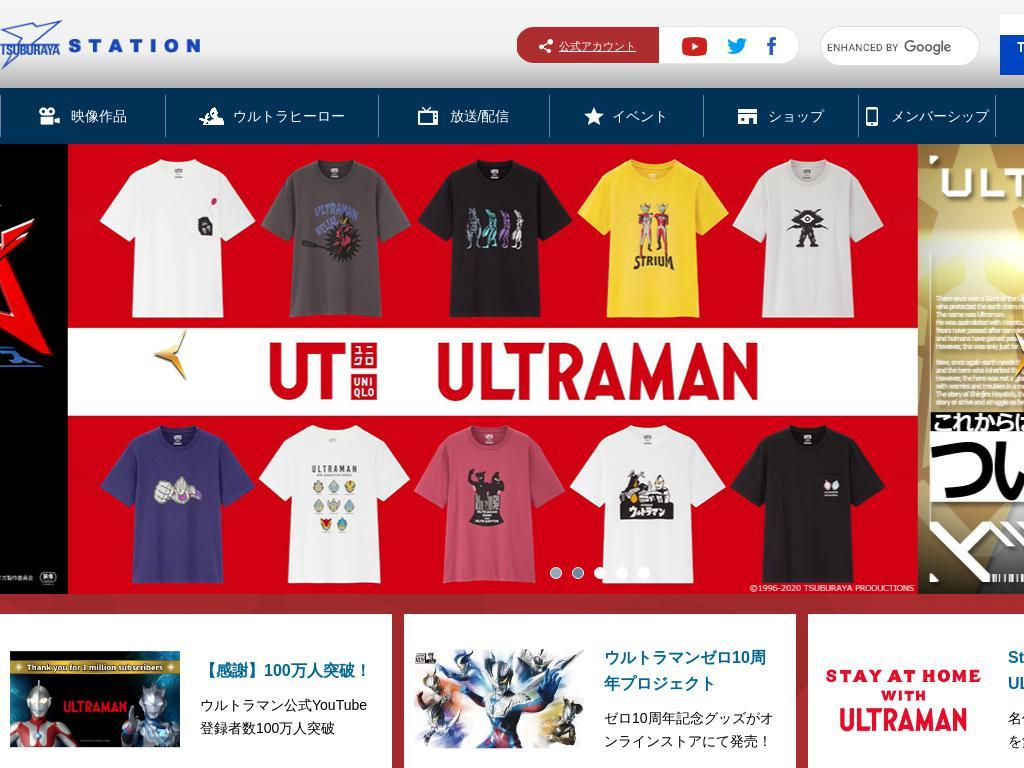button: (175, 144, 1024, 594), (0, 144, 175, 594), (165, 88, 378, 144), (378, 88, 549, 144), (0, 88, 165, 144), (703, 88, 858, 144), (549, 88, 703, 144), (858, 88, 996, 144), (152, 328, 188, 383), (1000, 15, 1024, 75), (1012, 328, 1024, 383), (550, 567, 562, 579), (572, 567, 584, 579), (594, 567, 606, 579), (616, 567, 628, 579), (638, 567, 650, 579)
field: (827, 38, 969, 56)
heading: (0, 20, 200, 71), (604, 649, 766, 692), (200, 662, 371, 679), (1008, 649, 1024, 692)
image: (175, 144, 1024, 594), (0, 144, 175, 594), (414, 649, 584, 749), (10, 651, 180, 747), (818, 651, 988, 747), (1000, 15, 1024, 75), (681, 36, 707, 56), (726, 38, 747, 54), (766, 37, 776, 55)
text: (198, 87, 345, 145), (200, 694, 372, 740), (604, 707, 776, 753), (865, 87, 989, 145), (417, 87, 509, 145), (38, 87, 127, 145), (737, 87, 824, 145), (584, 87, 668, 145), (539, 35, 636, 57), (1008, 707, 1024, 753), (975, 27, 979, 65)
